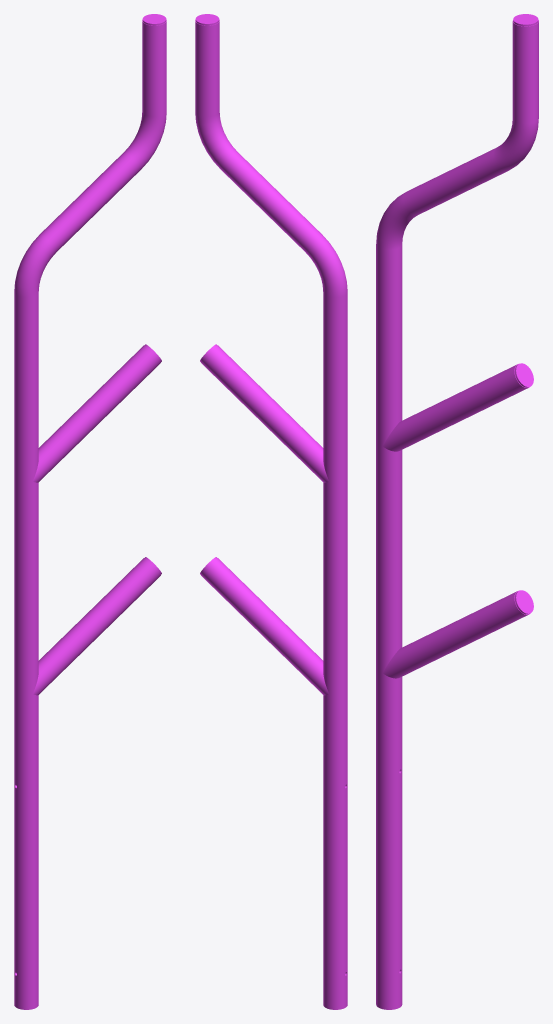
File: 2025 reef pipe.glb
3 views of the same model, side by side, from view 1: azimuth 30°, elevation 25°; view 2: azimuth 150°, elevation 25°; view 3: azimuth 330°, elevation 25° (orthographic). The views are drawn at different scales.
Visible parts, largest first — view 1: ID2; view 2: ID2; view 3: ID2.
Boxes of the visible parts, x1=… form: ID2: x1=14, y1=14, x2=166, y2=1009; ID2: x1=195, y1=14, x2=347, y2=1009; ID2: x1=376, y1=14, x2=538, y2=1009.
Bounding box in the file's own units: 0.2961 × 1.81 × 0.0422.
